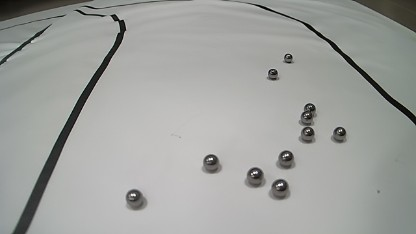ironball: (246, 167, 264, 185), (126, 189, 143, 208), (271, 179, 288, 197), (278, 150, 294, 167), (203, 154, 219, 171), (300, 126, 314, 141), (332, 127, 346, 141), (300, 111, 313, 124), (303, 103, 316, 114), (267, 68, 277, 79), (283, 53, 292, 63)
